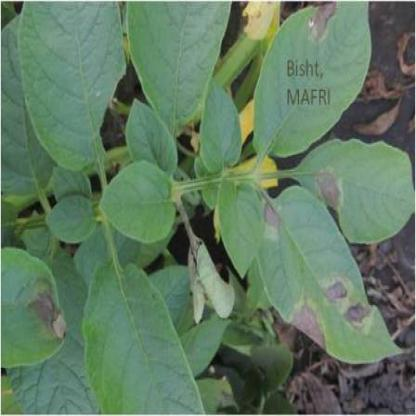Potato leaf early blight: (246, 179, 405, 358), (254, 1, 374, 163), (282, 136, 415, 243), (1, 249, 67, 368)
